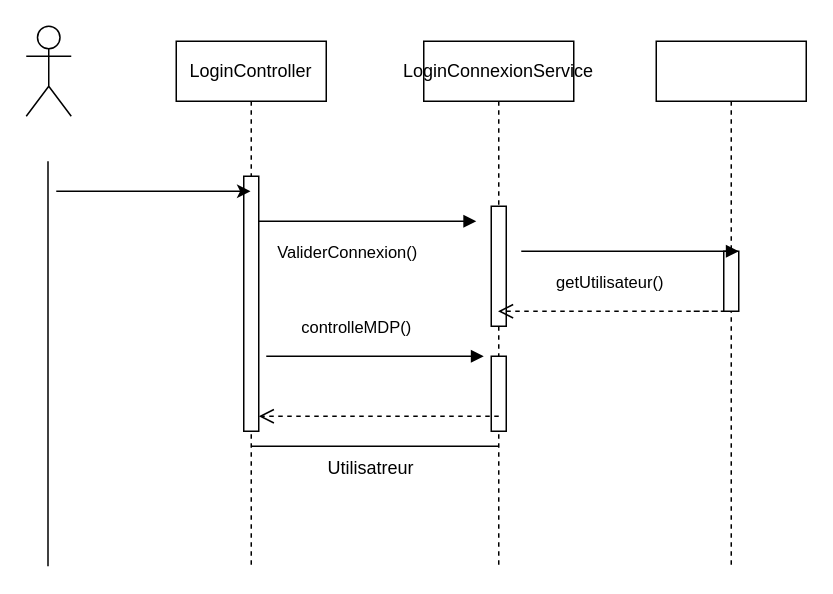
Some shapes in this 833 by 594 pixel diagram are drawn without their labels. Each missing label, with the box of its shape:
Actor: (25, 25, 71, 116)
DigesfUtils: (655, 40, 806, 566)
